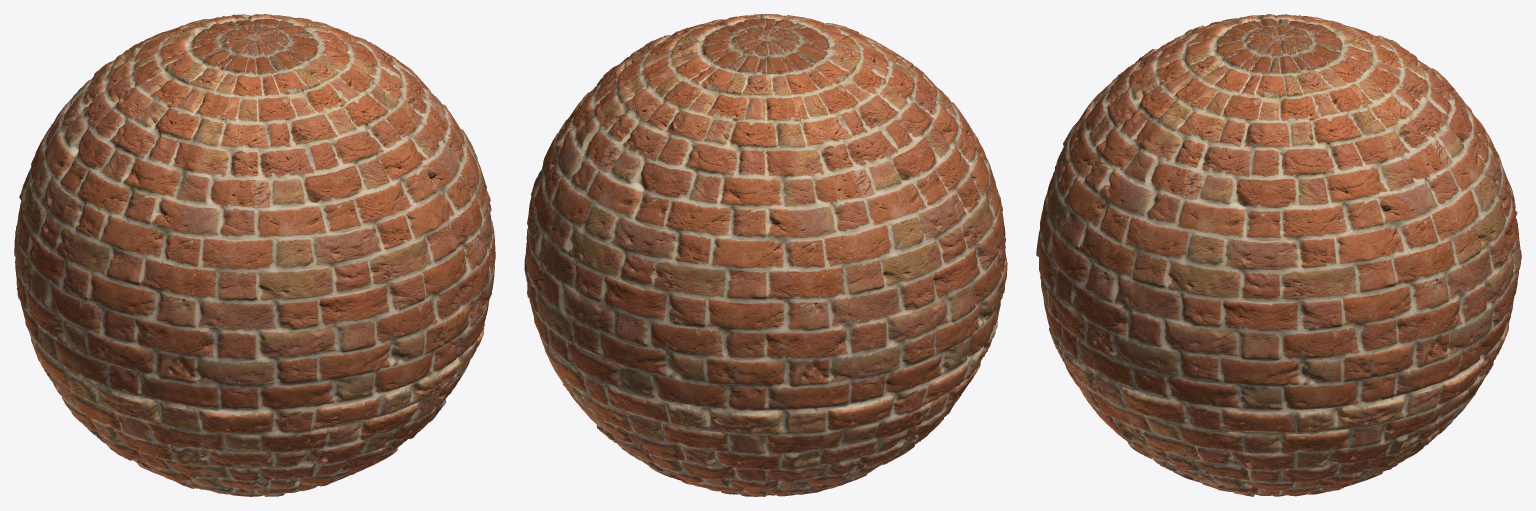
File: large_red_bricks_1k.gltf
3 renders of one model, left to right at view 1: azimuth 30°, elevation 25°; view 2: azimuth 150°, elevation 25°; view 3: azimuth 270°, elevation 25°, orthographic.
Parts seen in each view (by area): view 1: sphere_gltf; view 2: sphere_gltf; view 3: sphere_gltf.
Boxes of the visible parts, left/top/right/bottom form: sphere_gltf: left=14, top=14, right=495, bottom=496; sphere_gltf: left=524, top=14, right=1007, bottom=496; sphere_gltf: left=1036, top=14, right=1521, bottom=496.
Size of the model in its own units: 2.03 by 2.02 by 2.03.
1 material, 1 textured.
